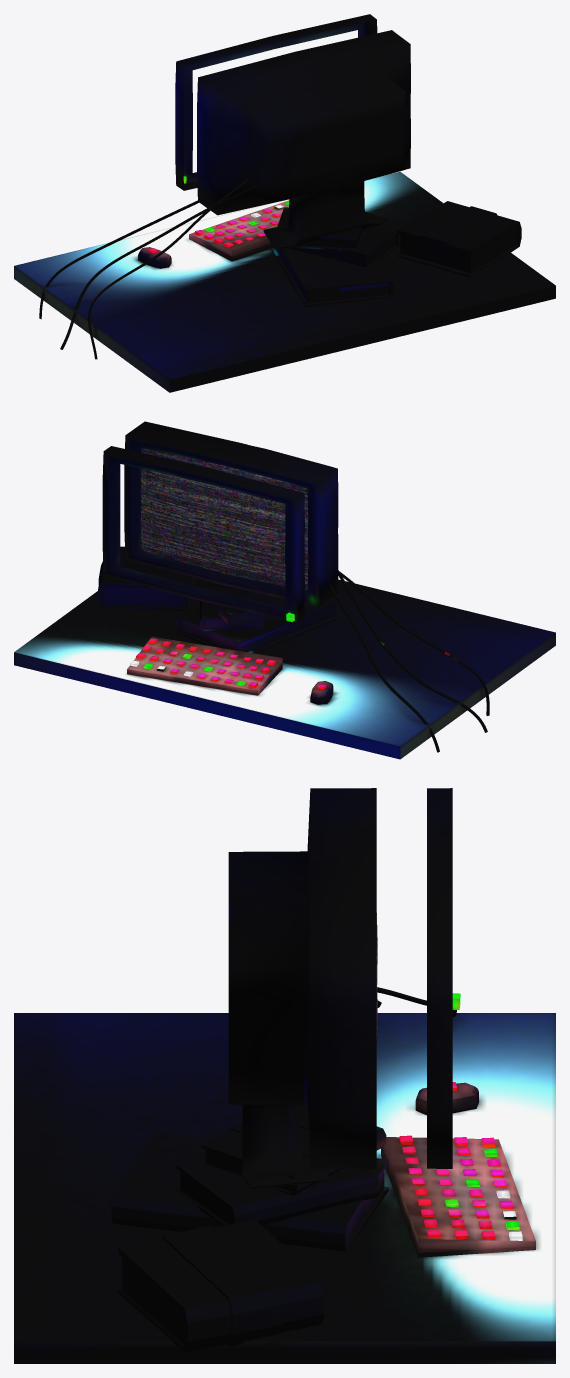
The model's file is CenaComputador_EXP.fbx.
The picture shows the model from 3 angles, top to bottom: view 1: azimuth 30°, elevation 25°; view 2: azimuth 150°, elevation 25°; view 3: azimuth 270°, elevation 25°; orthographic projection. The views are drawn at different scales.
Visible parts, largest first — view 1: ComputadorExterno, TelaExterna; view 2: ComputadorExterno, Tela1, TelaExterna; view 3: ComputadorExterno, TelaExterna.
Part boxes in pixels (x1,y1,x2,y2): ComputadorExterno: (14,30,555,392); TelaExterna: (175,14,377,190); ComputadorExterno: (14,421,555,759); Tela1: (141,448,308,590); TelaExterna: (102,446,304,622); ComputadorExterno: (14,788,555,1363); TelaExterna: (427,788,460,1168).
Bounding box in the file's own units: 14.23 × 7.3 × 9.09.
